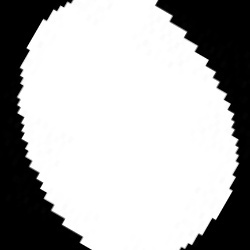spot: (18, 2, 240, 248)
